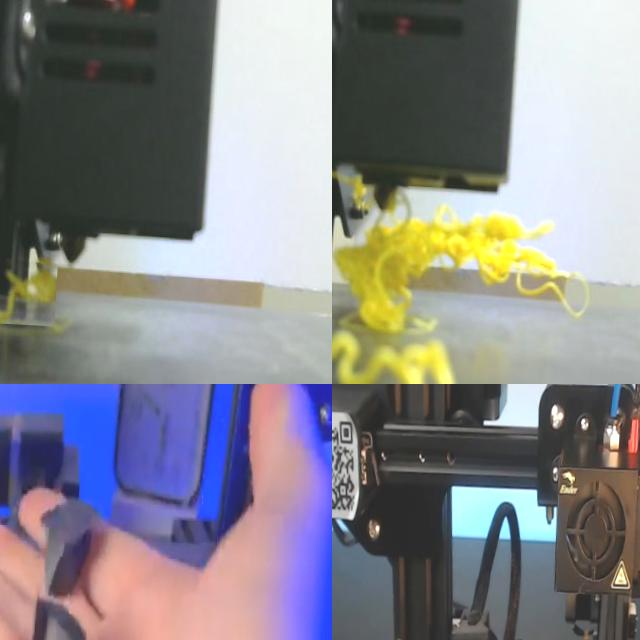spaghetti: (336, 207, 589, 334), (332, 330, 457, 384), (0, 268, 57, 324), (22, 317, 65, 332)
